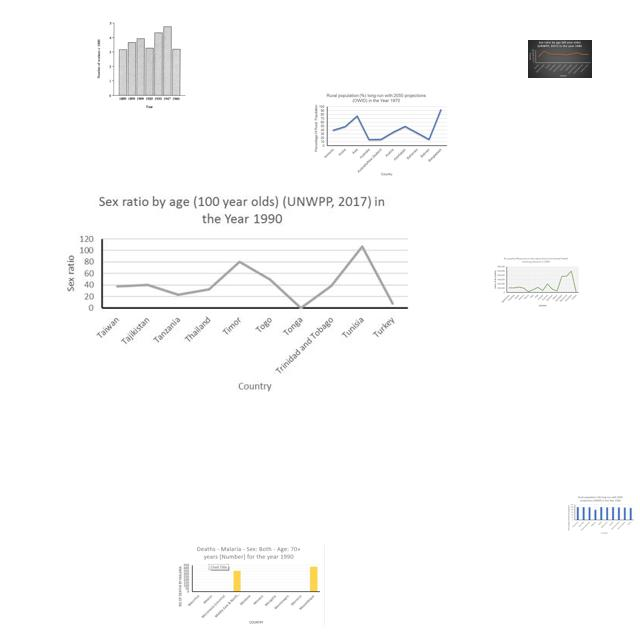Graph: (58, 189, 414, 402), (175, 544, 325, 627), (311, 91, 449, 178), (96, 19, 186, 109), (492, 256, 580, 309), (566, 495, 635, 535), (528, 40, 592, 78)
